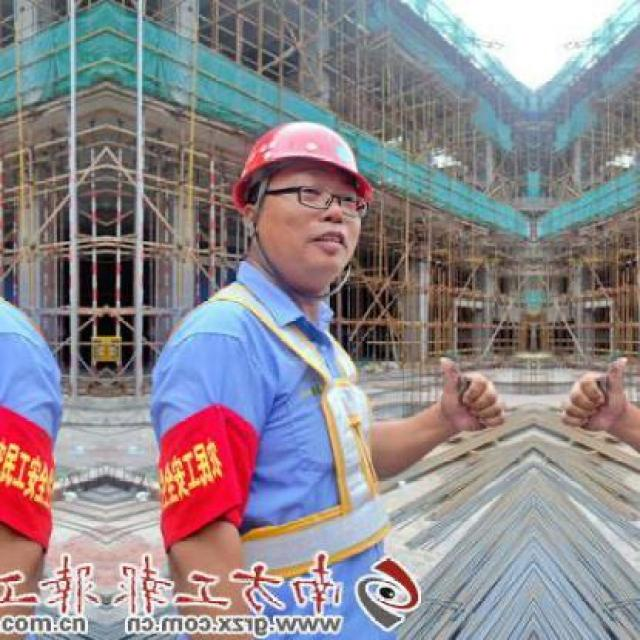Reflective-Jacket: (146, 278, 400, 576), (0, 269, 80, 548)
Safety-Helmet: (222, 114, 386, 215)
